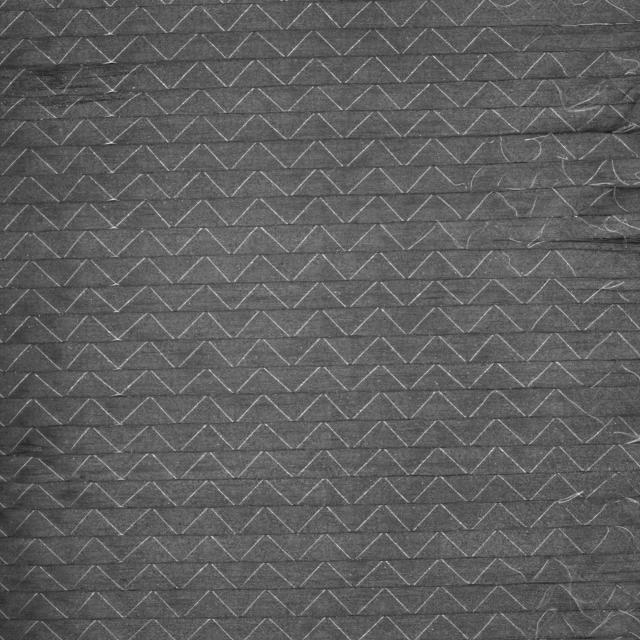carbon-fibre-defect: (464, 158, 640, 252), (479, 74, 638, 160), (563, 496, 639, 639), (483, 0, 635, 52)
